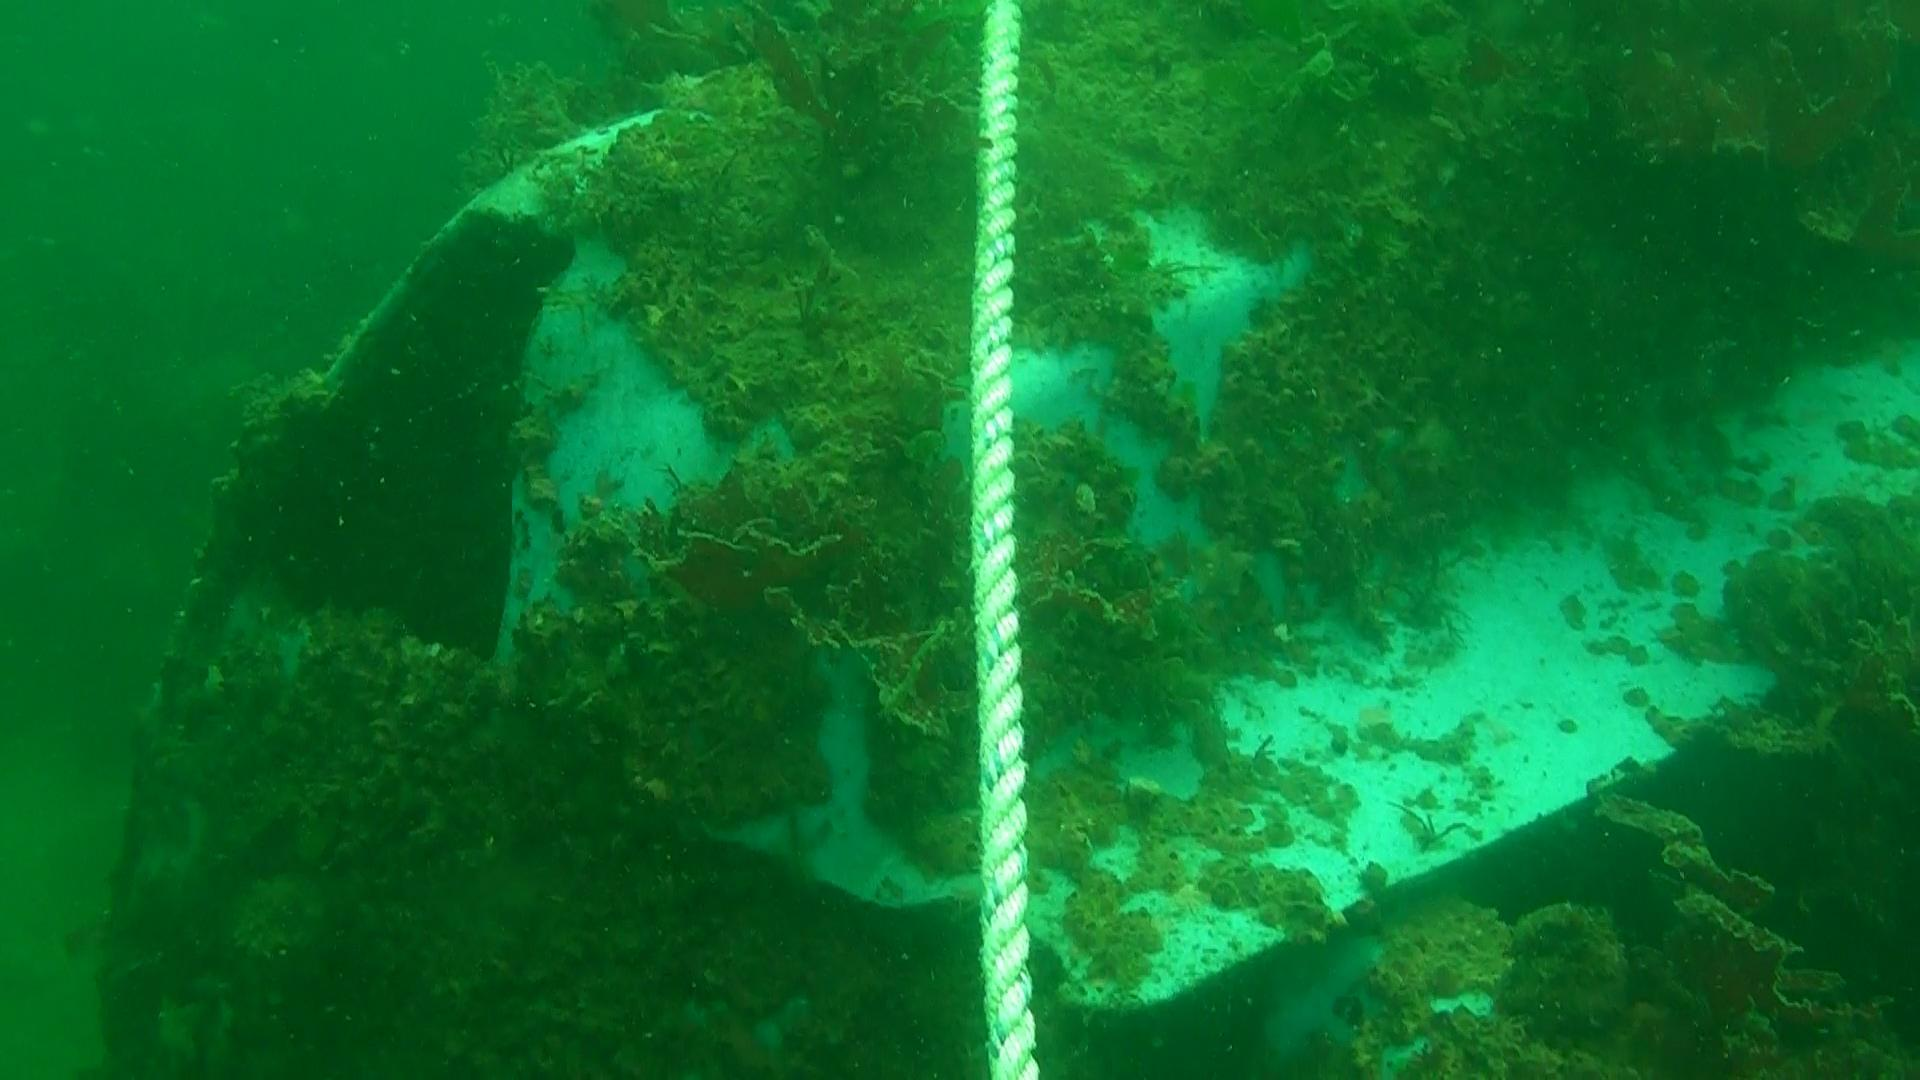rope: (964, 0, 1046, 1080)
